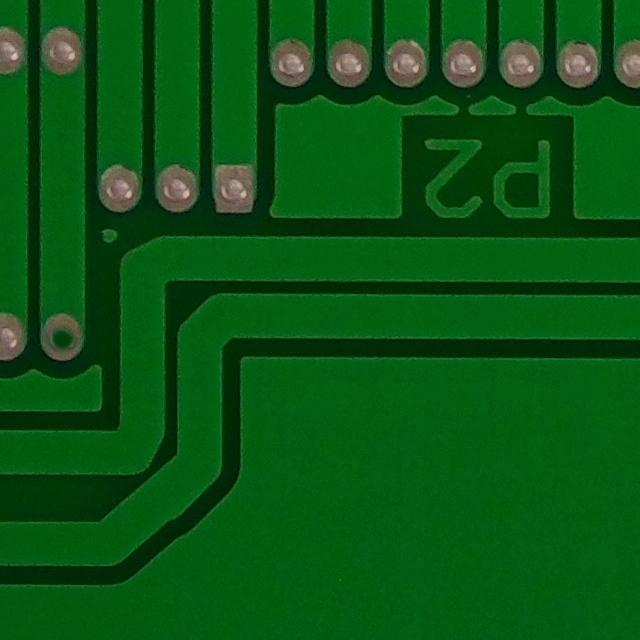missing_hole: (41, 304, 93, 368)
